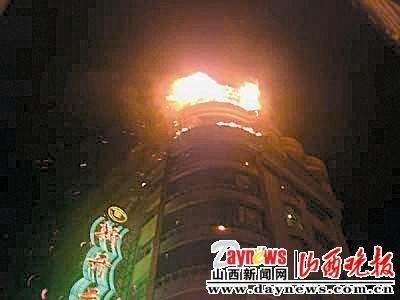fire: (163, 69, 266, 111), (217, 118, 262, 136)
